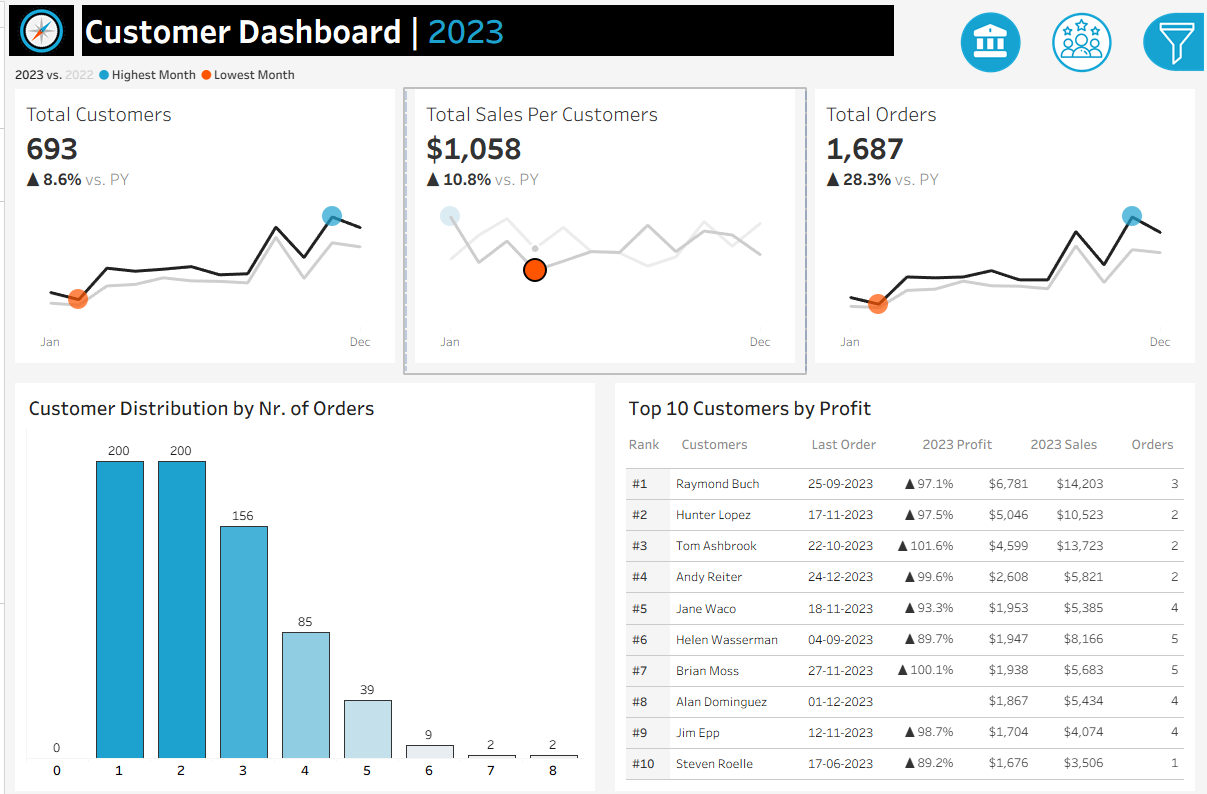

What the dashboard file says about the page in this screenshot:
{"tool":"tableau","page":{"name":"Customer Dashboard","canvas":[1200,800],"ordinal":0},"visuals":[{"type":"image","param":"Image/Icon - Logo.png","box":[0,0,73,59]},{"type":"text","box":[73,0,820,59]},{"type":"dashboard-object","box":[940,6,91,70]},{"type":"dashboard-object","box":[1031,6,91,70]},{"type":"blank","box":[952,10,237,86]},{"type":"worksheet","title":"Legend KPI","mark":"Automatic","box":[0,59,1200,29]},{"type":"worksheet","title":"KPI Customers","mark":"Automatic","rows":["Min/Max Quantity (copy)_3221481164588691468"],"cols":["Order Date"],"box":[0,88,400,284]},{"type":"worksheet","title":"KPI Sales Per Customers","mark":"Automatic","rows":["Min/Max Quantity (copy)_3221481164537155591"],"cols":["Order Date"],"box":[400,88,400,284]},{"type":"worksheet","title":"KPI Orders","mark":"Automatic","rows":["Min/Max Sales (copy)_3221481164601258003"],"cols":["Order Date"],"box":[800,88,400,284]},{"type":"text","box":[952,96,237,37]},{"type":"parameter","param":"[Parameters].[Parameter 1]","box":[952,133,237,55]},{"type":"text","box":[952,188,237,32]},{"type":"filter","title":"KPI Customers","param":"[federated.1kpxa041aiai2y1cl4pui1t4eju9].[none:Category:nk]","box":[952,220,237,57]},{"type":"filter","title":"KPI Customers","param":"[federated.1kpxa041aiai2y1cl4pui1t4eju9].[none:Sub-Category:nk]","box":[952,277,237,57]},{"type":"blank","box":[952,334,237,60]},{"type":"text","box":[17,389,566,34]},{"type":"text","box":[617,389,566,34]},{"type":"text","box":[952,394,237,32]},{"type":"worksheet","title":"Customer Distribution","mark":"Bar","rows":["CY Sales (copy)_3221481164532666369"],"cols":["Calculation_998110323739992064"],"box":[17,423,566,360]},{"type":"text","box":[617,423,53,40]},{"type":"text","box":[670,423,130,40]},{"type":"text","box":[800,423,111,40]},{"type":"text","box":[911,423,108,40]},{"type":"text","box":[1019,423,101,40]},{"type":"text","box":[1120,423,63,40]},{"type":"filter","title":"KPI Customers","param":"[federated.1kpxa041aiai2y1cl4pui1t4eju9].[none:Region:nk]","box":[952,426,237,57]},{"type":"worksheet","title":"Top Customers","mark":"Automatic","rows":["Calculation_782500491678904334","Customer Name","Order Date"],"box":[617,463,566,320]},{"type":"filter","title":"KPI Customers","param":"[federated.1kpxa041aiai2y1cl4pui1t4eju9].[none:State:nk]","box":[952,483,237,57]},{"type":"filter","title":"KPI Customers","param":"[federated.1kpxa041aiai2y1cl4pui1t4eju9].[none:City:nk]","box":[952,540,237,57]}]}

Visuals, with their boxes in screenshot pixels (x1, y1, x2, y2), scaled from the page's 1200x800 canvas onto the 1207x794 screenshot:
image: <region>0, 0, 73, 59</region>
text: <region>73, 0, 898, 59</region>
dashboard-object: <region>945, 6, 1037, 75</region>
dashboard-object: <region>1037, 6, 1129, 75</region>
blank: <region>958, 10, 1196, 95</region>
"Legend KPI" worksheet: <region>0, 59, 1206, 87</region>
"KPI Customers" worksheet: <region>0, 87, 402, 369</region>
"KPI Sales Per Customers" worksheet: <region>402, 87, 805, 369</region>
"KPI Orders" worksheet: <region>805, 87, 1206, 369</region>
text: <region>958, 95, 1196, 132</region>
parameter: <region>958, 132, 1196, 187</region>
text: <region>958, 187, 1196, 218</region>
"KPI Customers" filter: <region>958, 218, 1196, 275</region>
"KPI Customers" filter: <region>958, 275, 1196, 331</region>
blank: <region>958, 331, 1196, 391</region>
text: <region>17, 386, 586, 420</region>
text: <region>621, 386, 1190, 420</region>
text: <region>958, 391, 1196, 423</region>
"Customer Distribution" worksheet (Bar marks): <region>17, 420, 586, 777</region>
text: <region>621, 420, 674, 460</region>
text: <region>674, 420, 805, 460</region>
text: <region>805, 420, 916, 460</region>
text: <region>916, 420, 1025, 460</region>
text: <region>1025, 420, 1127, 460</region>
text: <region>1127, 420, 1190, 460</region>
"KPI Customers" filter: <region>958, 423, 1196, 479</region>
"Top Customers" worksheet: <region>621, 460, 1190, 777</region>
"KPI Customers" filter: <region>958, 479, 1196, 536</region>
"KPI Customers" filter: <region>958, 536, 1196, 593</region>
